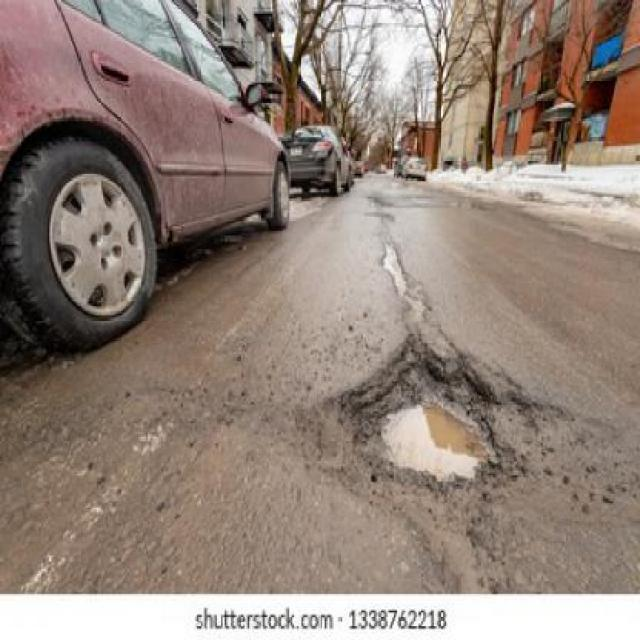pothole: (340, 359, 514, 522)
